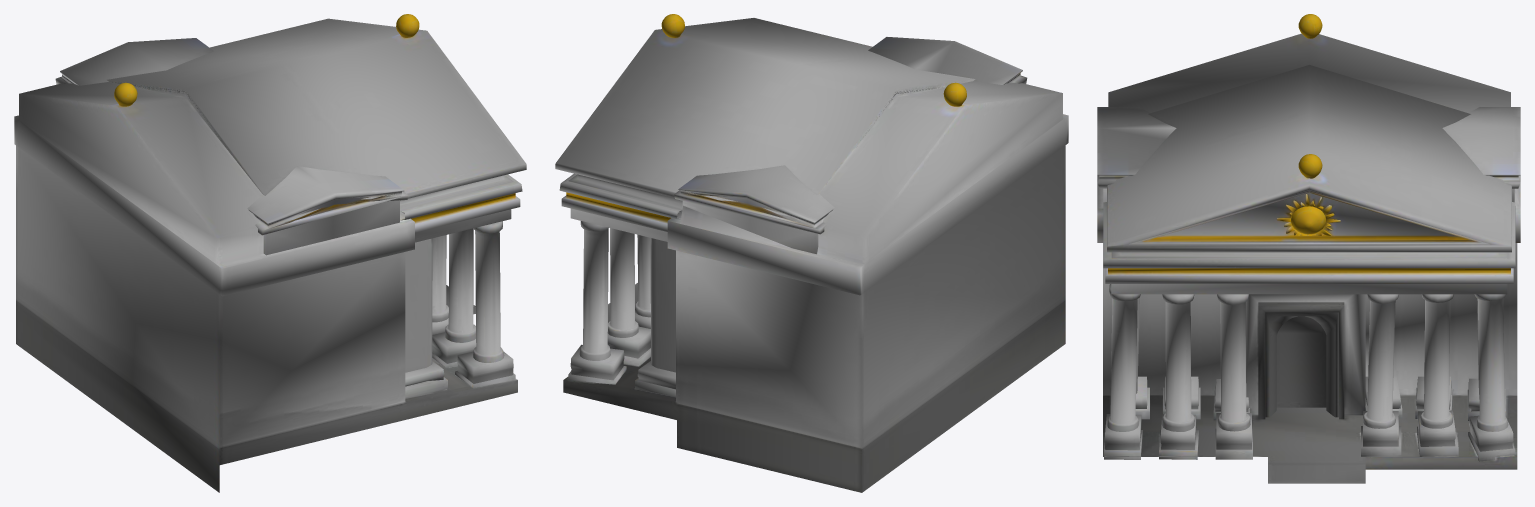
3 views of the same model, side by side, from view 1: azimuth 30°, elevation 25°; view 2: azimuth 150°, elevation 25°; view 3: azimuth 270°, elevation 25° (orthographic).
Size of the model in its own units: 0.9644 by 0.8813 by 0.9995.
1 material, 1 textured.
